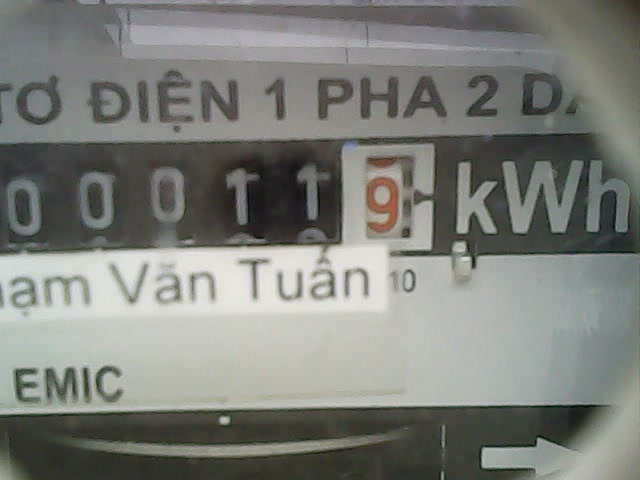phy_plate: (1, 142, 441, 258)
